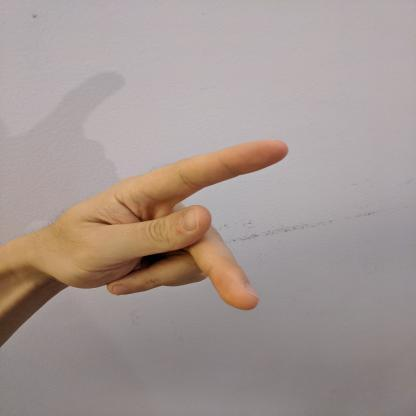P: (30, 137, 293, 313)
